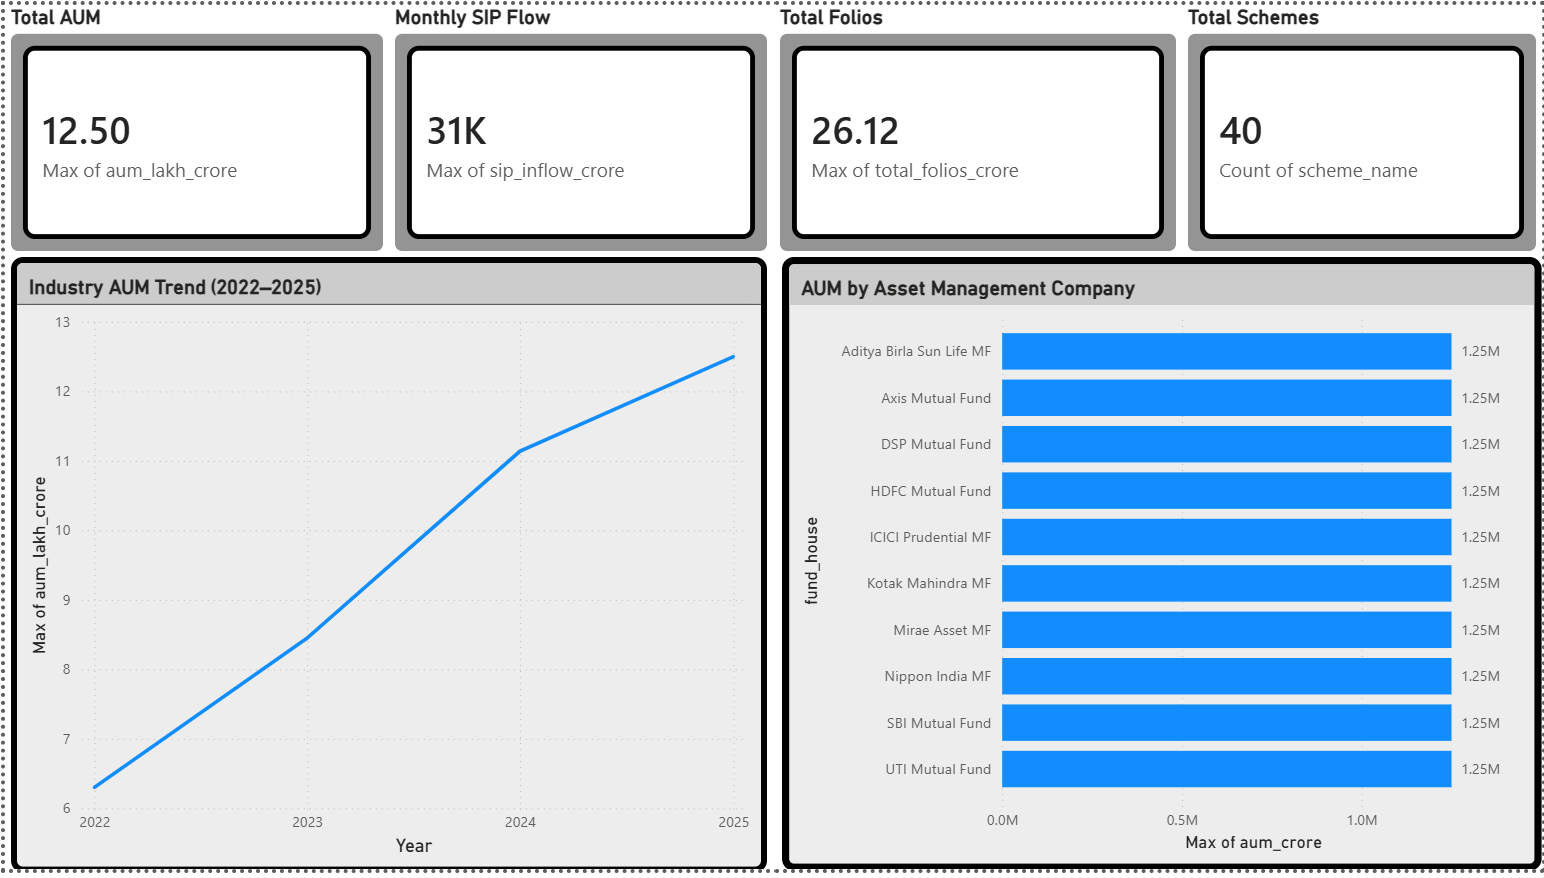

The page's visual inventory and layout, read from the dashboard file:
{"tool":"powerbi","page":{"name":"Industry Overview","canvas":[1280,720],"ordinal":0},"visuals":[{"type":"cardVisual","title":"Total AUM","fields":{"Data":["Max(03_aum_by_fund_house.aum_lakh_crore)"]},"box":[0,0,320,210],"z":0},{"type":"cardVisual","title":"Monthly SIP Flow","fields":{"Data":["Max(04_monthly_sip_inflows.sip_inflow_crore)"]},"box":[320,0,320,210],"z":1000},{"type":"cardVisual","title":"Total Folios","fields":{"Data":["Max(06_industry_folio_count.total_folios_crore)"]},"box":[640,0,340,210],"z":2000},{"type":"cardVisual","title":"Total Schemes","fields":{"Data":["Count(01_fund_master.scheme_name)"]},"box":[980,0,300,210],"z":3000},{"type":"lineChart","title":"Industry AUM Trend (2022–2025)","fields":{"Category":["03_aum_by_fund_house.date.Variation.Date Hierarchy.Year","03_aum_by_fund_house.date.Variation.Date Hierarchy.Quarter","03_aum_by_fund_house.date.Variation.Date Hierarchy.Month","03_aum_by_fund_house.date.Variation.Date Hierarchy.Day"],"Y":["Max(03_aum_by_fund_house.aum_lakh_crore)"]},"box":[4.3,210,630,512.9],"z":4000},{"type":"clusteredBarChart","title":"AUM by Asset Management Company","fields":{"Category":["01_fund_master.fund_house"],"Y":["Max(03_aum_by_fund_house.aum_crore)"]},"box":[647.1,210,632.9,511.4],"z":5000}]}

Visuals, with their boxes in screenshot pixels (x1, y1, x2, y2), scaled from the page's 1280x720 canvas onto the 1544x878 screenshot:
"Total AUM" cardVisual: crop(0, 0, 386, 256)
"Monthly SIP Flow" cardVisual: crop(386, 0, 772, 256)
"Total Folios" cardVisual: crop(772, 0, 1182, 256)
"Total Schemes" cardVisual: crop(1182, 0, 1543, 256)
"Industry AUM Trend (2022–2025)" lineChart: crop(5, 256, 765, 877)
"AUM by Asset Management Company" clusteredBarChart: crop(781, 256, 1543, 877)
